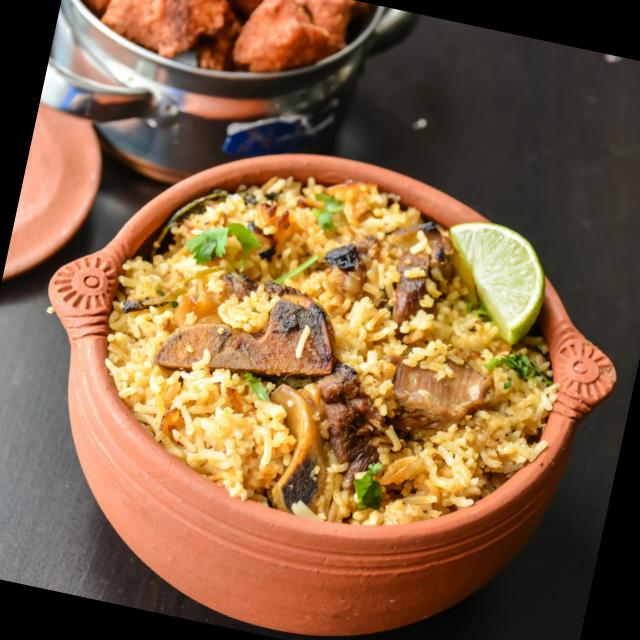Biryani: (78, 138, 590, 563)
